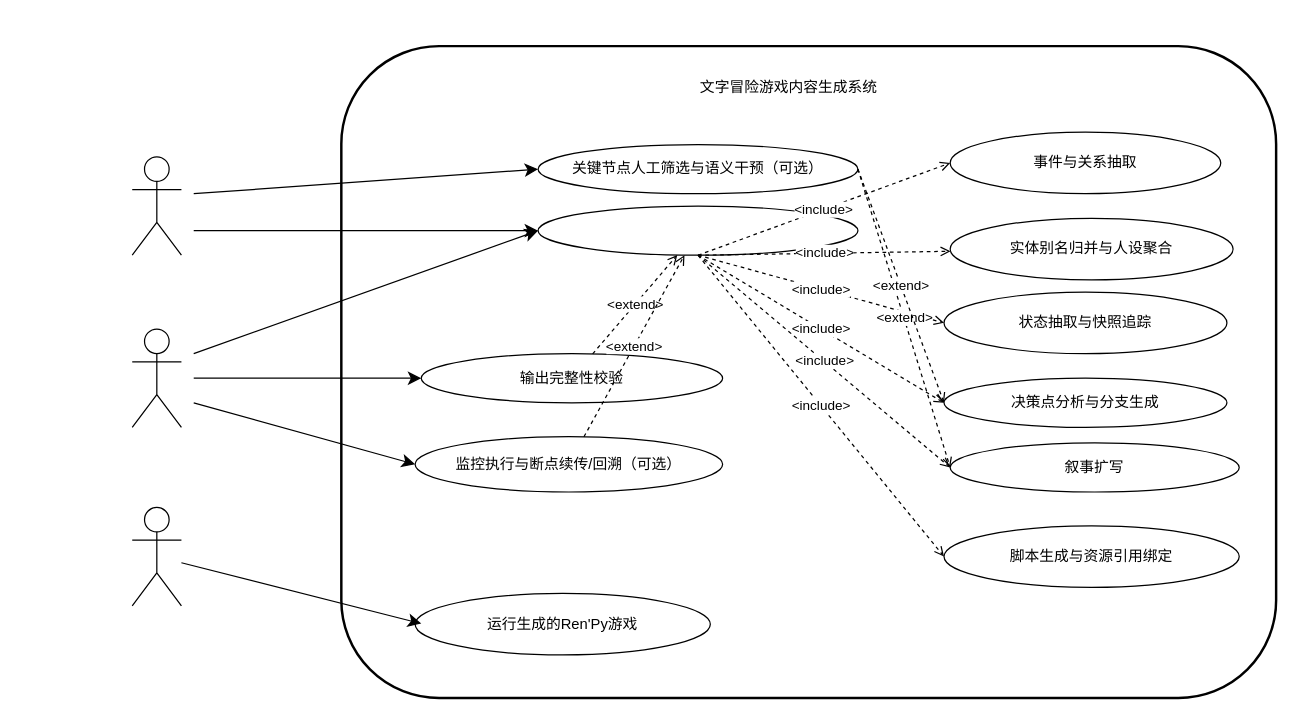
The diagram is 1298 pixels wide and 720 high, and some of its shapes have lost their labels. The box of each missing label's shape, as (x1, y1, x2, y2) in pixels:
互动叙事体验者: (131, 506, 181, 606)
名著数字化开发者: (131, 156, 181, 255)
端到端数字化转化（配置运行）: (537, 205, 858, 255)
系统流水线运维者: (131, 328, 181, 427)
